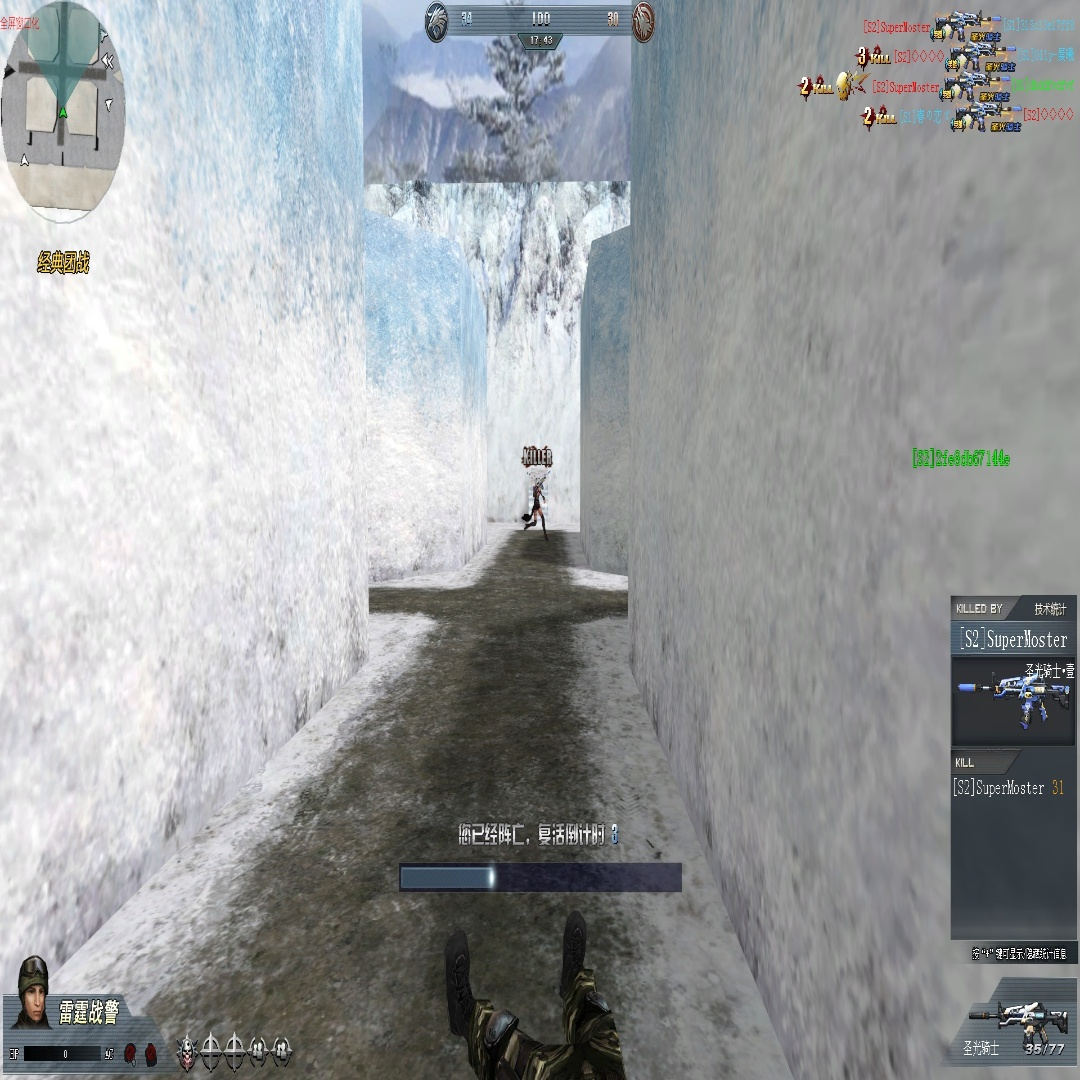t: (529, 479, 547, 530)
